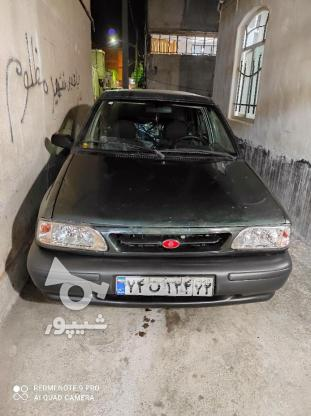car: (114, 276, 215, 299)
